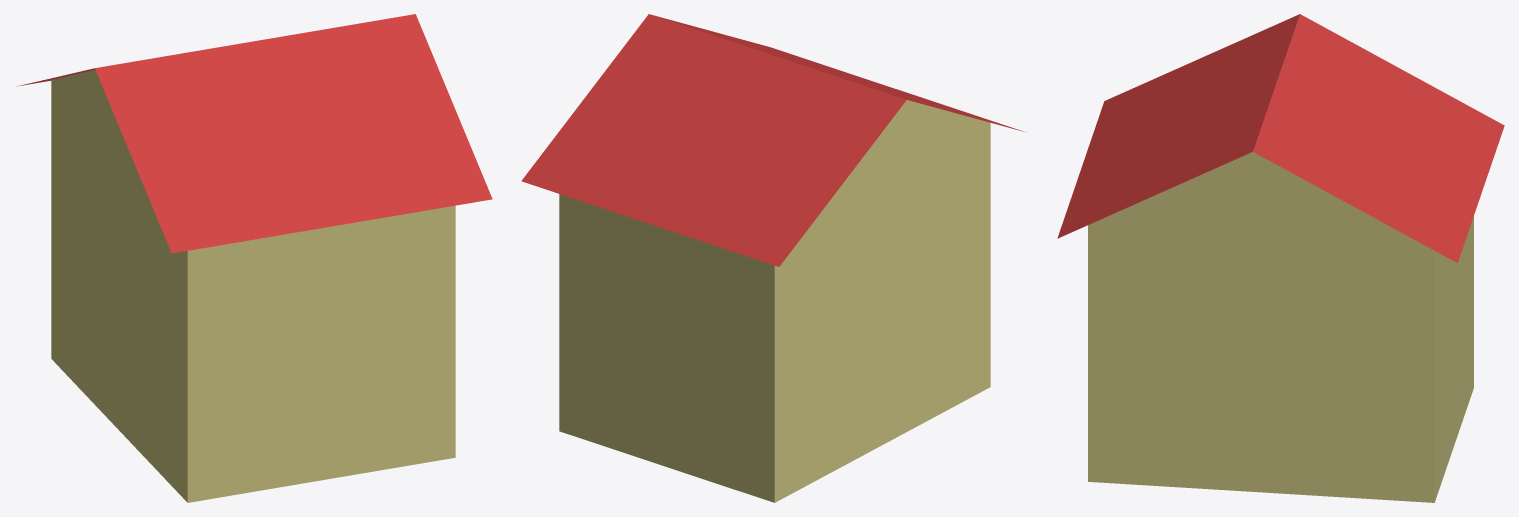
3 views of the same model, side by side, from view 1: azimuth 30°, elevation 25°; view 2: azimuth 150°, elevation 25°; view 3: azimuth 270°, elevation 25° (orthographic). The views are drawn at different scales.
Visible parts, largest first — view 1: group_5, group_3, group_4; view 2: group_5, group_3, group_4; view 3: group_5, group_3, group_4.
Boxes of the visible parts, x1,y1,x2,y2 form: group_5: (51, 70, 455, 502); group_3: (16, 18, 492, 223); group_4: (32, 14, 492, 253); group_5: (559, 100, 990, 502); group_3: (521, 14, 987, 266); group_4: (651, 14, 1025, 266); group_5: (1088, 152, 1473, 502); group_3: (1088, 14, 1504, 262); group_4: (1057, 14, 1504, 238).
Size of the model in its own units: 10.6 by 12.36 by 10.71.
